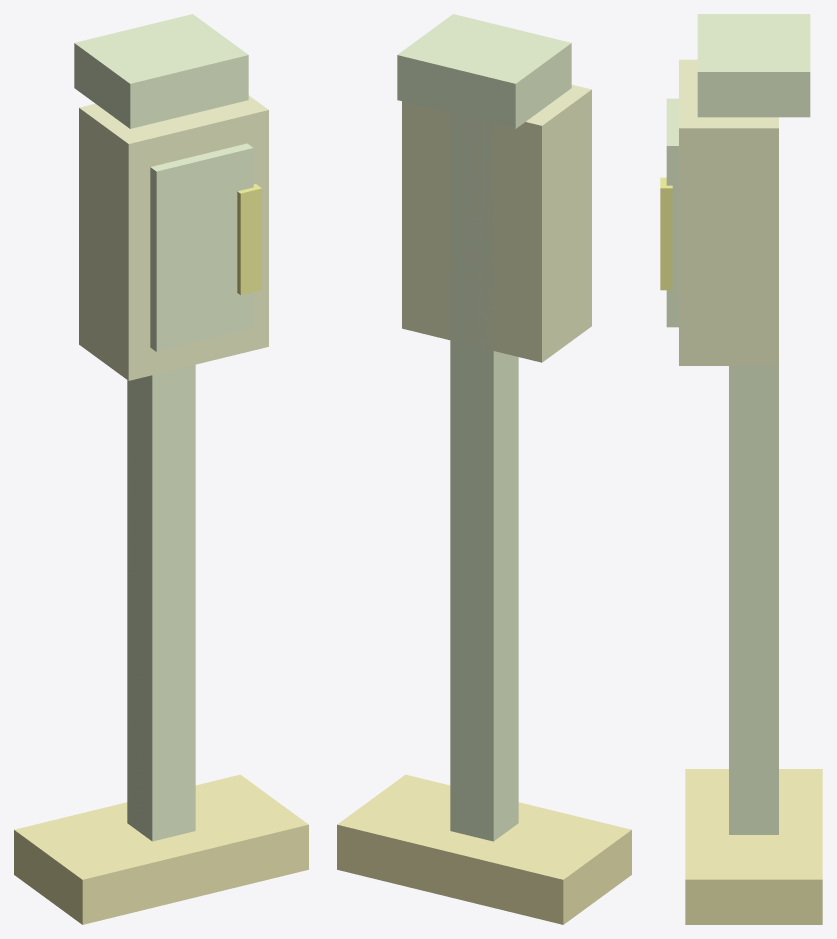
The model's file is furniture_rail_crossing_power_disconnect.glb.
The picture shows the model from 3 angles, left to right: view 1: azimuth 30°, elevation 25°; view 2: azimuth 150°, elevation 25°; view 3: azimuth 270°, elevation 25°; orthographic projection.
Visible parts, largest first — view 1: post, disconnect_box, base, door, service_head, lever; view 2: post, disconnect_box, base, service_head; view 3: disconnect_box, post, base, service_head, door, lever.
Boxes of the visible parts, <box> form: post: <box>127,364,195,841</box>; disconnect_box: <box>79,95,268,380</box>; base: <box>14,774,308,924</box>; door: <box>150,143,253,351</box>; service_head: <box>74,14,248,128</box>; lever: <box>237,184,261,294</box>; post: <box>450,113,518,841</box>; disconnect_box: <box>402,84,591,362</box>; base: <box>337,774,631,924</box>; service_head: <box>397,14,571,128</box>; disconnect_box: <box>679,59,778,365</box>; post: <box>729,366,778,834</box>; base: <box>685,769,822,924</box>; service_head: <box>697,14,810,117</box>; door: <box>666,98,678,327</box>; lever: <box>660,177,672,290</box>.
Size of the model in its own units: 0.42 by 1.46 by 0.26.
